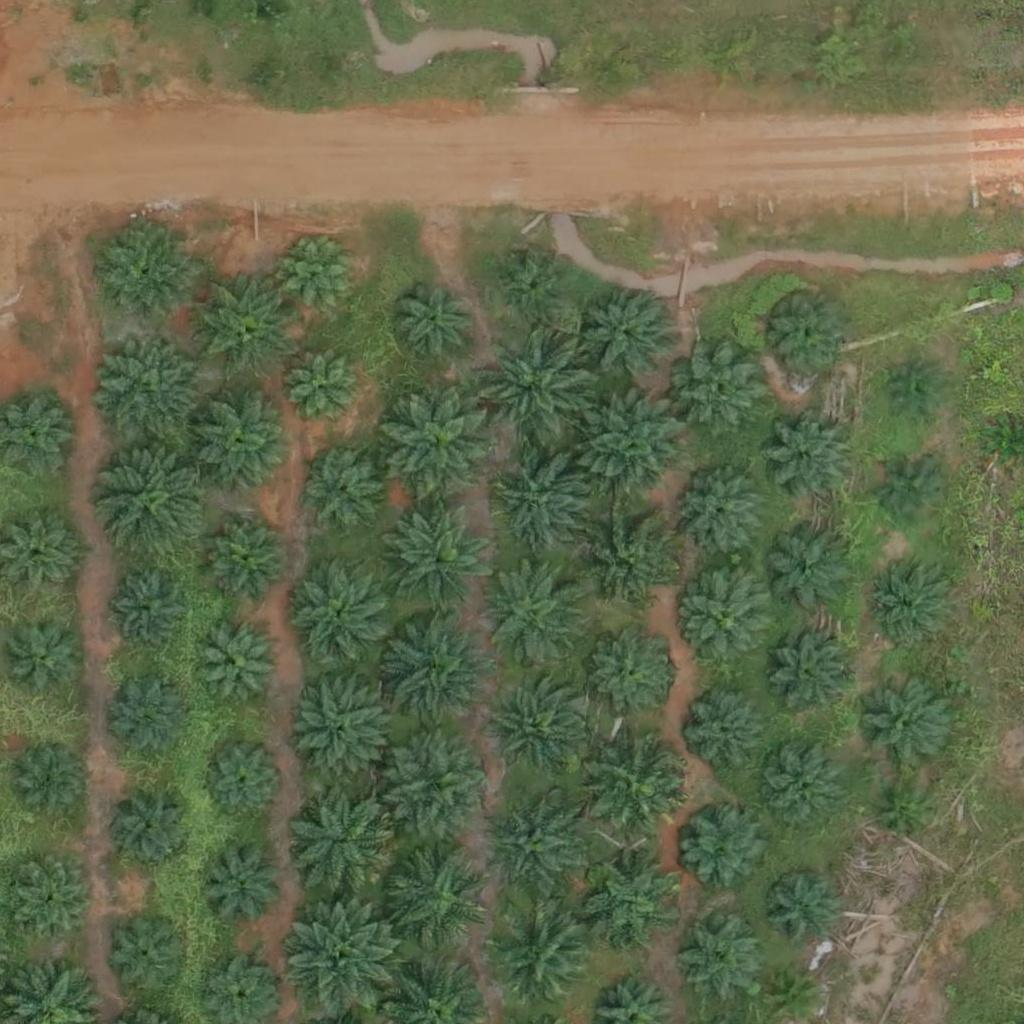Kelapa_Sawit: (481, 319, 606, 444), (96, 336, 209, 450), (102, 443, 215, 557), (283, 900, 396, 1014), (383, 383, 496, 496), (388, 502, 501, 615), (382, 611, 495, 724), (382, 729, 494, 843), (285, 787, 397, 901), (482, 898, 594, 1011), (97, 223, 197, 324), (195, 274, 295, 375), (496, 449, 596, 550), (486, 564, 586, 665), (486, 685, 586, 786), (584, 395, 684, 496), (576, 511, 676, 612), (590, 734, 690, 835), (585, 855, 685, 956), (195, 394, 295, 494), (292, 561, 392, 661), (295, 675, 395, 775), (489, 796, 589, 896), (385, 847, 485, 947), (682, 573, 770, 662), (585, 293, 673, 381), (586, 628, 674, 716), (682, 685, 770, 773), (681, 805, 769, 893), (865, 560, 953, 648), (679, 910, 767, 998), (8, 855, 96, 943), (392, 279, 479, 368), (280, 232, 367, 320), (197, 844, 284, 932), (203, 738, 290, 826), (112, 783, 199, 871), (676, 347, 763, 435), (678, 472, 765, 560), (766, 414, 853, 502), (764, 527, 851, 615), (764, 629, 851, 717), (758, 747, 845, 835), (865, 679, 952, 767), (1, 517, 76, 593), (771, 293, 846, 369), (116, 570, 191, 646), (114, 684, 189, 760), (208, 523, 283, 599), (203, 627, 278, 703), (310, 456, 385, 532), (285, 349, 360, 424), (7, 745, 82, 820), (9, 617, 84, 692), (767, 872, 842, 947), (109, 919, 184, 994), (882, 459, 944, 522), (505, 256, 567, 319), (878, 789, 928, 840), (772, 970, 822, 1021), (892, 369, 942, 419)
